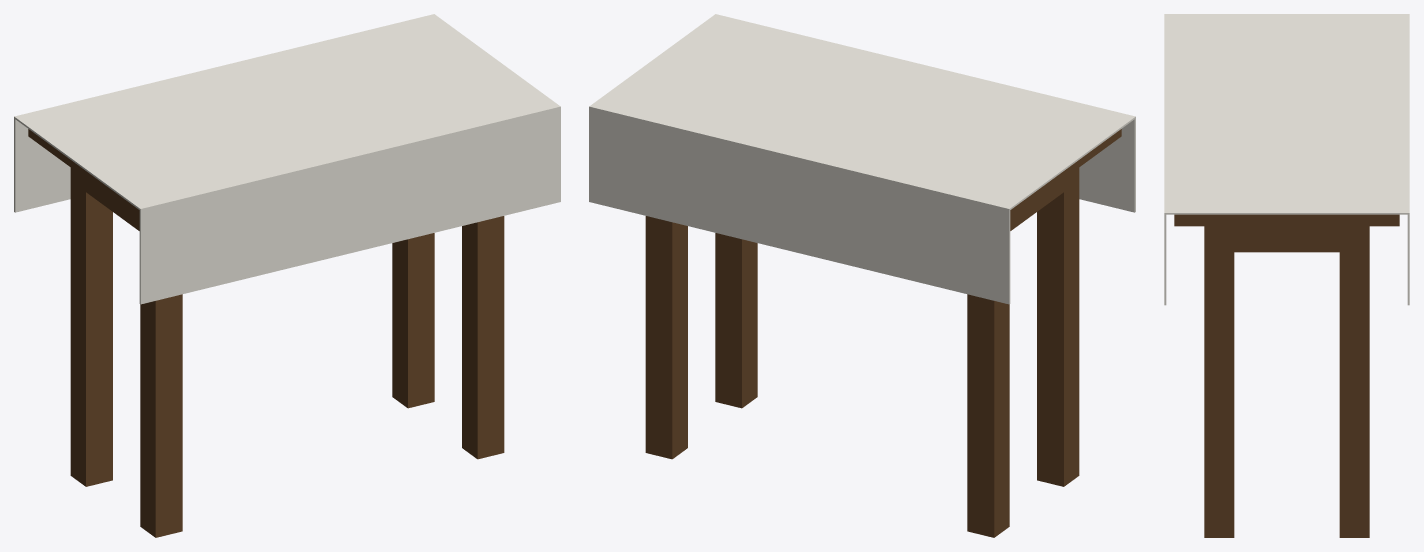
The picture shows the model from 3 angles, left to right: view 1: azimuth 30°, elevation 25°; view 2: azimuth 150°, elevation 25°; view 3: azimuth 270°, elevation 25°; orthographic projection. The views are drawn at different scales.
Parts seen in each view (by area): view 1: parametric-variant-table-1st-pub-8d72094db7c48a2f2fb1; view 2: parametric-variant-table-1st-pub-8d72094db7c48a2f2fb1; view 3: parametric-variant-table-1st-pub-8d72094db7c48a2f2fb1.
Part boxes in pixels (bbox=[...]): parametric-variant-table-1st-pub-8d72094db7c48a2f2fb1: bbox=[14, 14, 560, 537]; parametric-variant-table-1st-pub-8d72094db7c48a2f2fb1: bbox=[589, 14, 1135, 537]; parametric-variant-table-1st-pub-8d72094db7c48a2f2fb1: bbox=[1164, 14, 1409, 537].
Size of the model in its own units: 0.94 by 0.754 by 0.49.
